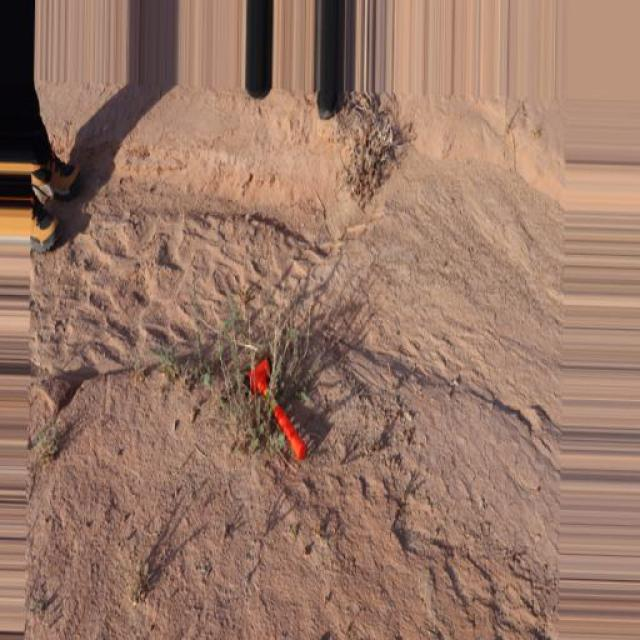mallet: (245, 355, 307, 461)
